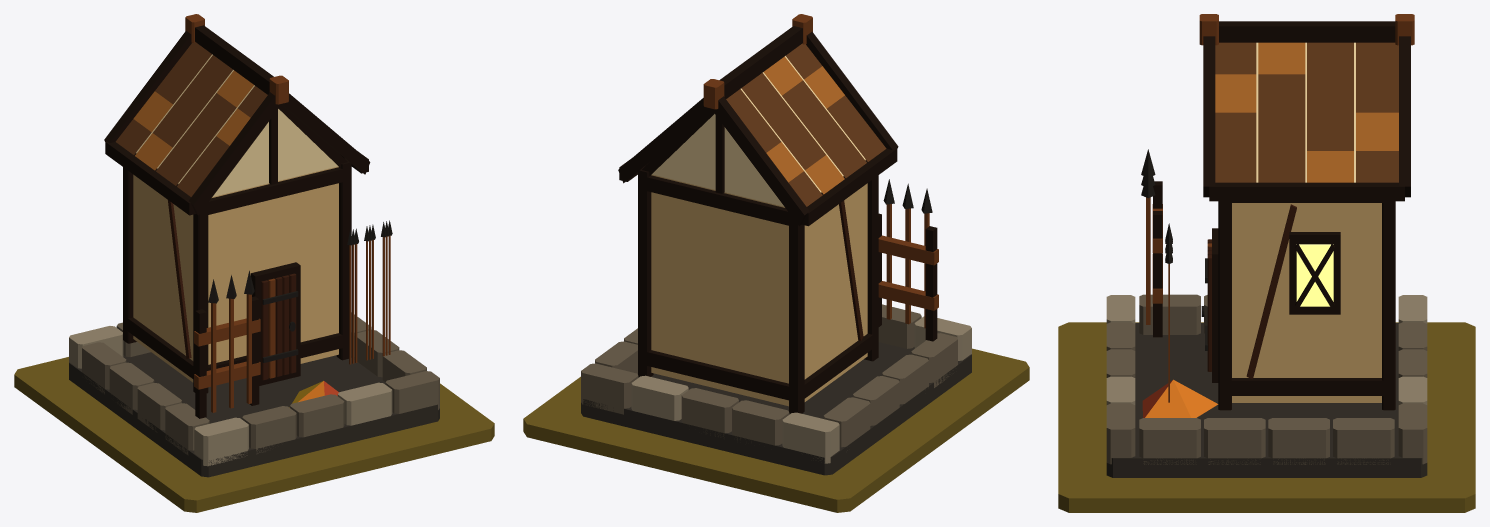
Rendered from fletcher_t3.glb.
The picture shows the model from 3 angles, left to right: view 1: azimuth 30°, elevation 25°; view 2: azimuth 150°, elevation 25°; view 3: azimuth 270°, elevation 25°; orthographic projection. The views are drawn at different scales.
Parts seen in each view (by area): view 1: MMR | fletcher | T03 Architecture.001, MMR | fletcher | Tier 03 Ground.001; view 2: MMR | fletcher | T03 Architecture.001, MMR | fletcher | Tier 03 Ground.001; view 3: MMR | fletcher | T03 Architecture.001, MMR | fletcher | Tier 03 Ground.001, MMR | fletcher | T03 Autumn Dressing.001.
Boxes of the visible parts, <box> form: MMR | fletcher | T03 Architecture.001: <box>69,14,439,477</box>; MMR | fletcher | Tier 03 Ground.001: <box>14,357,494,512</box>; MMR | fletcher | T03 Architecture.001: <box>581,14,971,475</box>; MMR | fletcher | Tier 03 Ground.001: <box>523,348,1029,512</box>; MMR | fletcher | T03 Architecture.001: <box>1106,14,1427,477</box>; MMR | fletcher | Tier 03 Ground.001: <box>1058,322,1475,512</box>; MMR | fletcher | T03 Autumn Dressing.001: <box>1142,379,1218,417</box>.
Bounding box in the file's own units: 1.3 × 1.4 × 1.3.
Materials: 2 (1 with a texture image).
